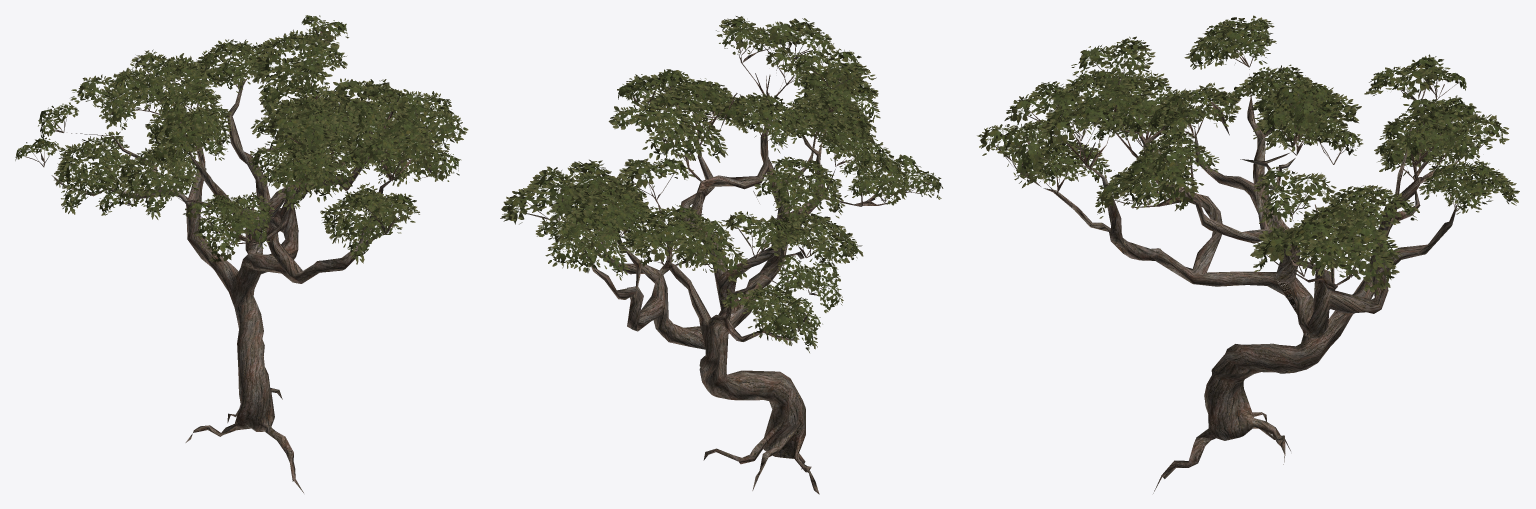
Rendered from old-tree.glb.
The picture shows the model from 3 angles, left to right: view 1: azimuth 30°, elevation 25°; view 2: azimuth 150°, elevation 25°; view 3: azimuth 270°, elevation 25°; orthographic projection. The views are drawn at different scales.
Visible parts, largest first — view 1: old tree; view 2: old tree; view 3: old tree.
Part boxes in pixels (x1,y1,x2,y2): old tree: [15, 15, 468, 492]; old tree: [500, 16, 943, 494]; old tree: [977, 15, 1519, 493].
Bounding box in the file's own units: 5.6 × 6.26 × 6.85.
Materials: 3 (3 with a texture image).
